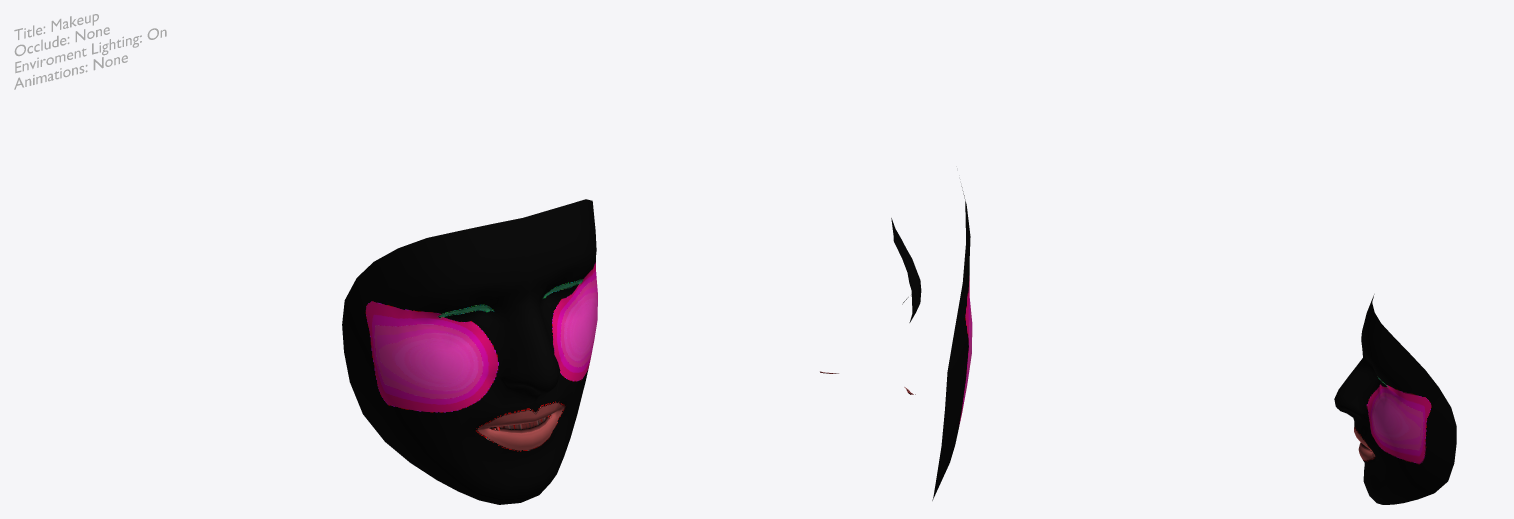
The model's file is Makeup.glb.
3 renders of one model, left to right at view 1: azimuth 30°, elevation 25°; view 2: azimuth 150°, elevation 25°; view 3: azimuth 270°, elevation 25°, orthographic. The views are drawn at different scales.
Parts seen in each view (by area): view 1: Makeup, _Makeup; view 2: Makeup; view 3: Makeup.
Part boxes in pixels (x1,y1,x2,y2): Makeup: (342, 199, 597, 504); _Makeup: (14, 14, 166, 89); Makeup: (820, 186, 972, 500); Makeup: (1334, 294, 1456, 504).
Bounding box in the file's own units: 34.54 × 31.27 × 13.55.
Materials: 1 (1 with a texture image).
